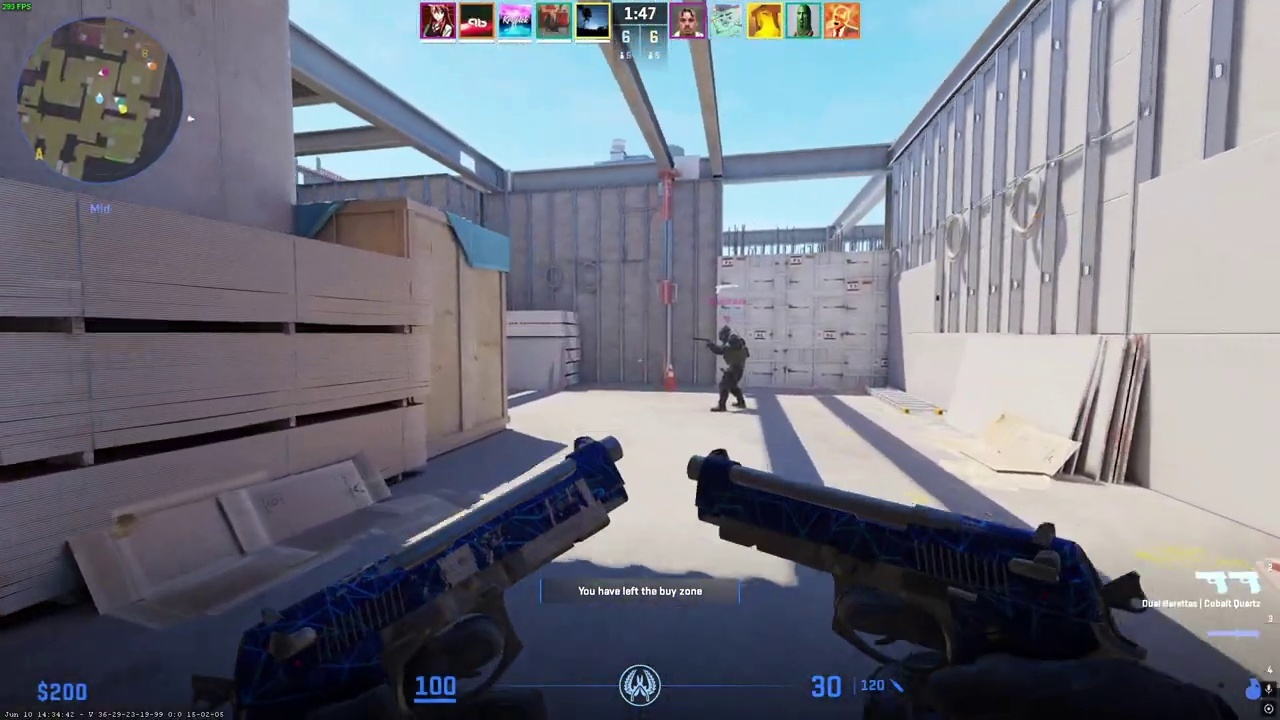CT: (711, 325, 748, 412)
